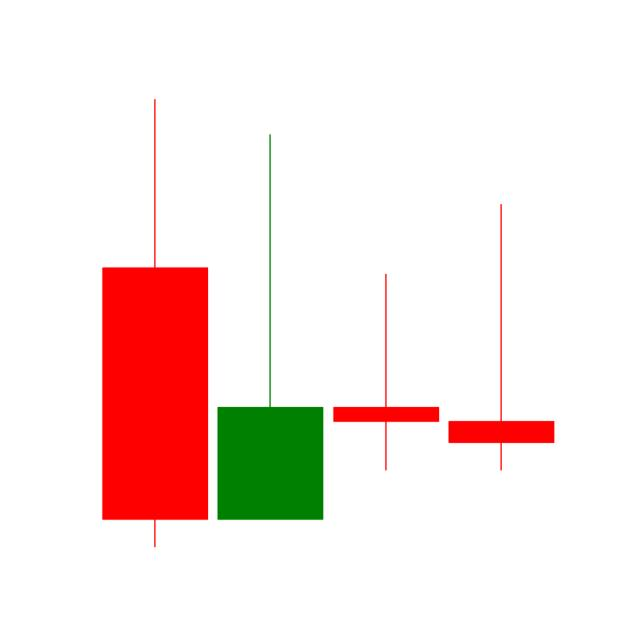Gravenstone Doji: (448, 201, 560, 474), (334, 272, 442, 476)
